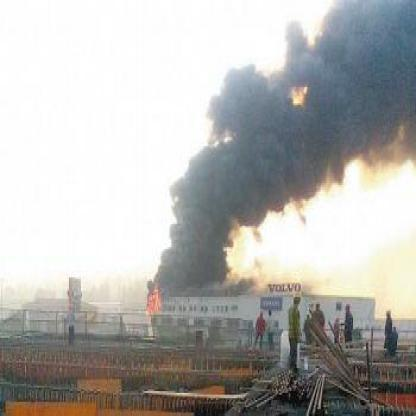fire: (138, 276, 167, 324)
smoke: (212, 0, 414, 208), (156, 158, 260, 292)
